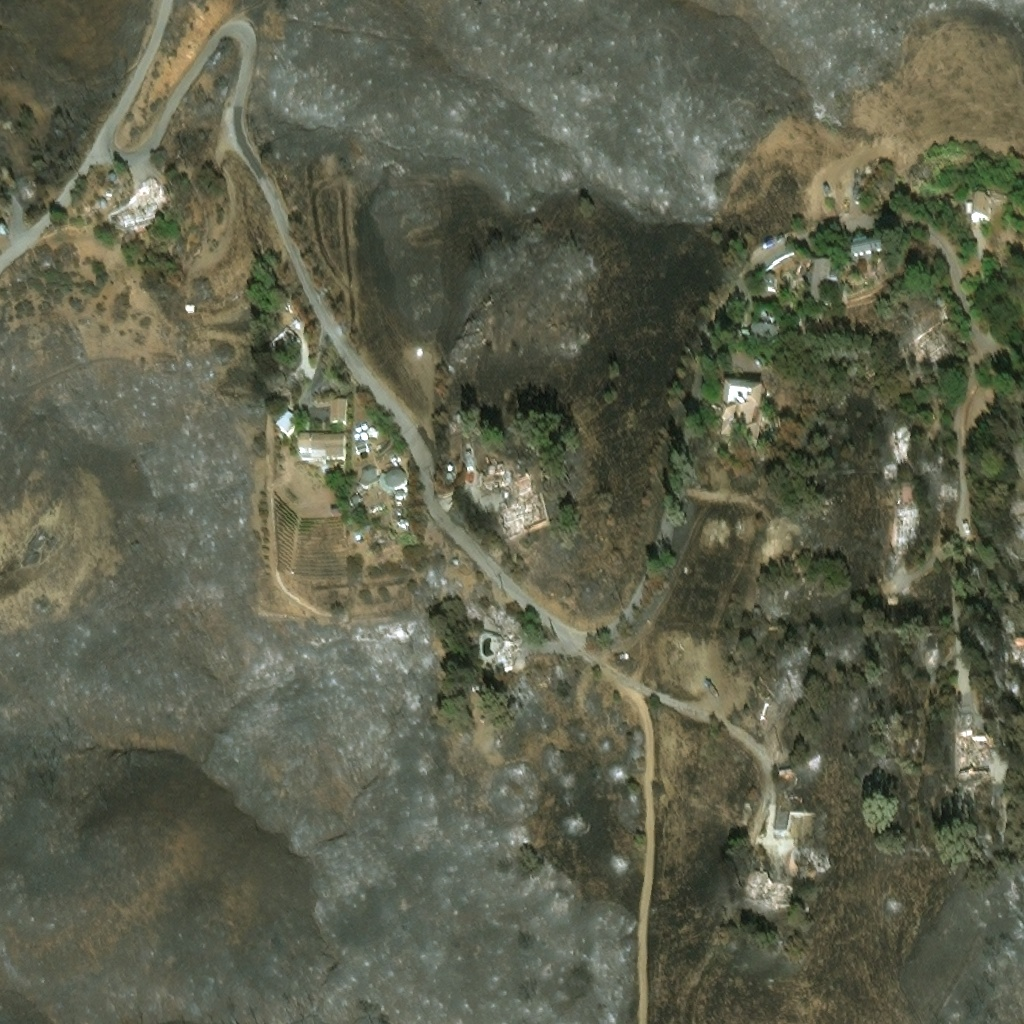0 no-damage: (716, 385, 767, 446), (298, 431, 345, 460), (811, 262, 842, 305), (966, 191, 1003, 223), (851, 241, 886, 268), (916, 332, 947, 360), (753, 320, 779, 350), (273, 410, 298, 437), (384, 467, 405, 489), (329, 397, 347, 422), (931, 298, 951, 320), (359, 462, 375, 481), (354, 439, 368, 453), (943, 198, 958, 210), (765, 279, 778, 291), (396, 519, 407, 530), (366, 426, 378, 436), (332, 508, 342, 518), (351, 495, 360, 504), (394, 490, 404, 498), (444, 473, 452, 481), (354, 425, 361, 432), (360, 431, 367, 438), (826, 189, 831, 198), (353, 433, 360, 439), (361, 423, 367, 429)
3 destroyed: (500, 478, 540, 541), (956, 714, 989, 775), (745, 865, 791, 906), (489, 625, 522, 674), (266, 323, 300, 358), (118, 203, 160, 231), (892, 505, 920, 546), (135, 180, 167, 202), (791, 841, 810, 874), (283, 367, 305, 389), (771, 809, 789, 833), (480, 471, 504, 488), (812, 852, 827, 871), (923, 647, 938, 663), (504, 455, 518, 470), (1008, 632, 1022, 644), (939, 483, 954, 493), (466, 450, 474, 467), (1012, 449, 1023, 461), (19, 179, 30, 190), (883, 464, 891, 477), (0, 225, 7, 236), (184, 302, 193, 310), (99, 199, 107, 208), (108, 174, 116, 182), (752, 606, 759, 615), (106, 181, 113, 189), (355, 536, 363, 542), (455, 414, 459, 419)
4 un-classified: (353, 504, 361, 511)
